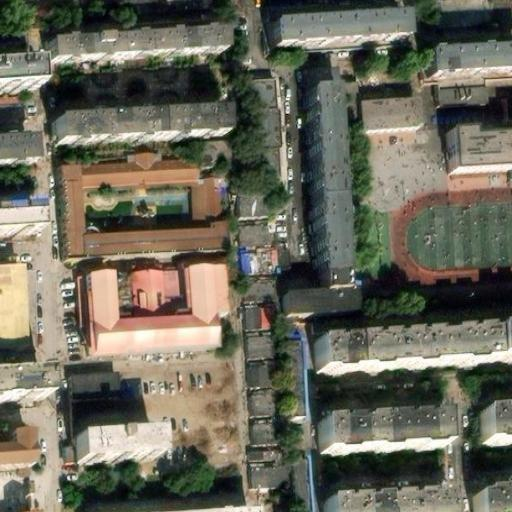building: (52, 152, 222, 260), (83, 274, 218, 369), (311, 325, 490, 368), (46, 38, 218, 75), (51, 105, 218, 141), (317, 411, 446, 455), (270, 18, 400, 54), (307, 92, 340, 204), (247, 78, 281, 177), (422, 47, 512, 83), (443, 127, 512, 173), (68, 375, 123, 430), (322, 491, 450, 512), (314, 202, 345, 286), (73, 435, 155, 464), (280, 288, 354, 318), (81, 498, 248, 511), (356, 104, 416, 136), (288, 337, 310, 420), (433, 81, 489, 109), (248, 461, 294, 490), (240, 246, 283, 276), (479, 407, 512, 445), (0, 429, 31, 466), (243, 302, 276, 332), (238, 191, 272, 219), (474, 487, 512, 512), (0, 54, 30, 85), (0, 204, 32, 233), (248, 387, 277, 418), (237, 221, 271, 247), (244, 334, 276, 361), (244, 359, 271, 389), (249, 418, 279, 445), (488, 323, 512, 356), (0, 132, 26, 162), (245, 448, 277, 465)
